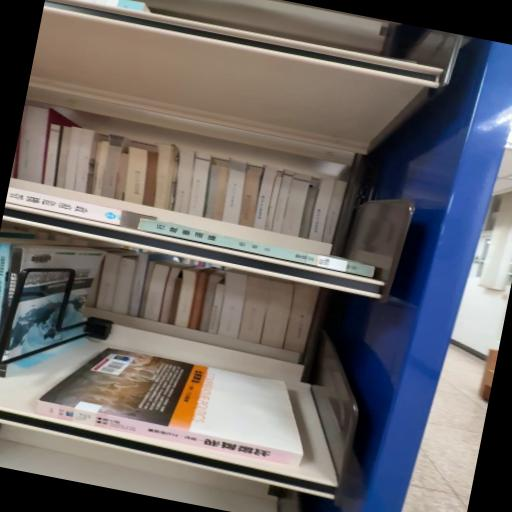flat: (37, 349, 304, 467), (139, 220, 375, 279)
